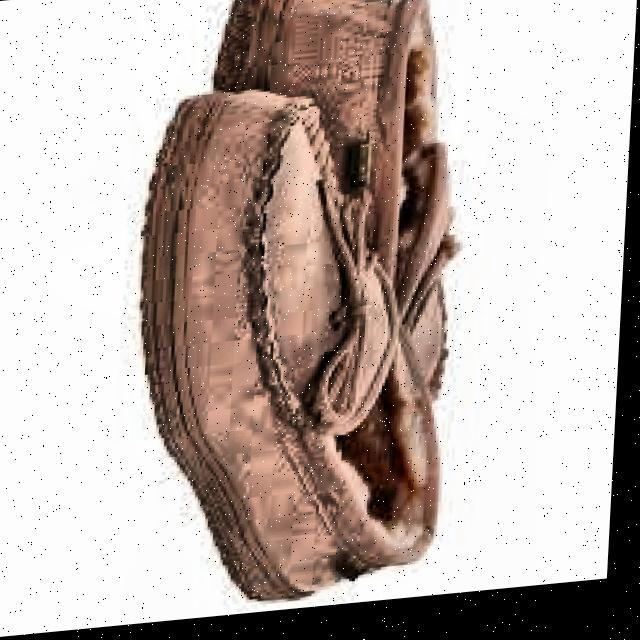shoes: (105, 0, 530, 627)
